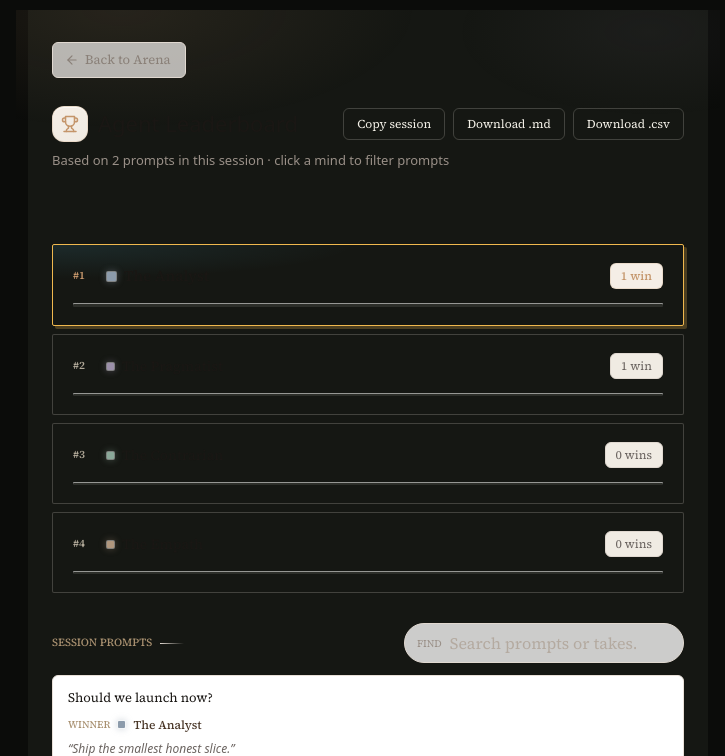
Test case: LeaderboardView › downloads the leaderboard and visible prompts as CSV
Click the button with aria-label "Download leaderboard as CSV".
click(628, 124)  # box [573,108,684,140]
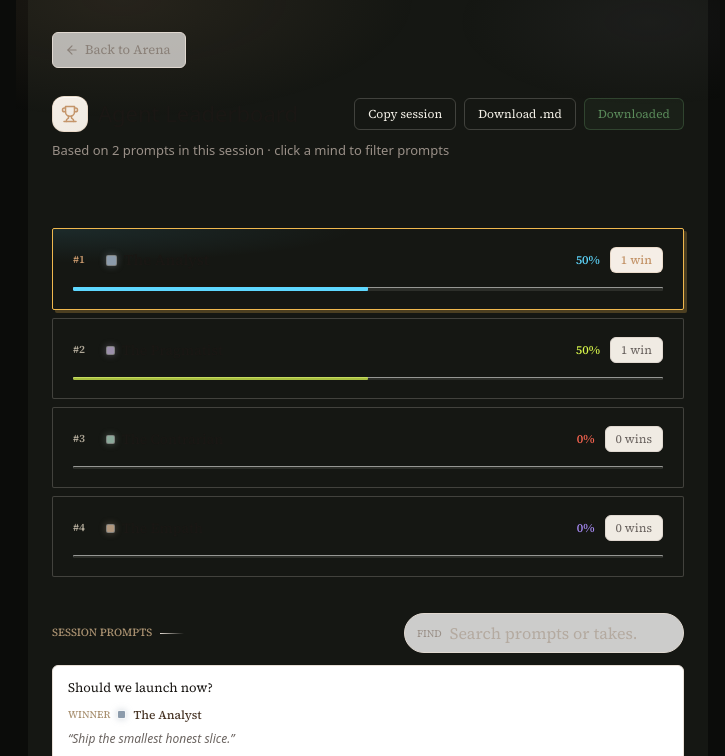
Check: the button with aria-label "Leaderboard CSV downloaded" reads "Downloaded", box [584,98,684,130]
